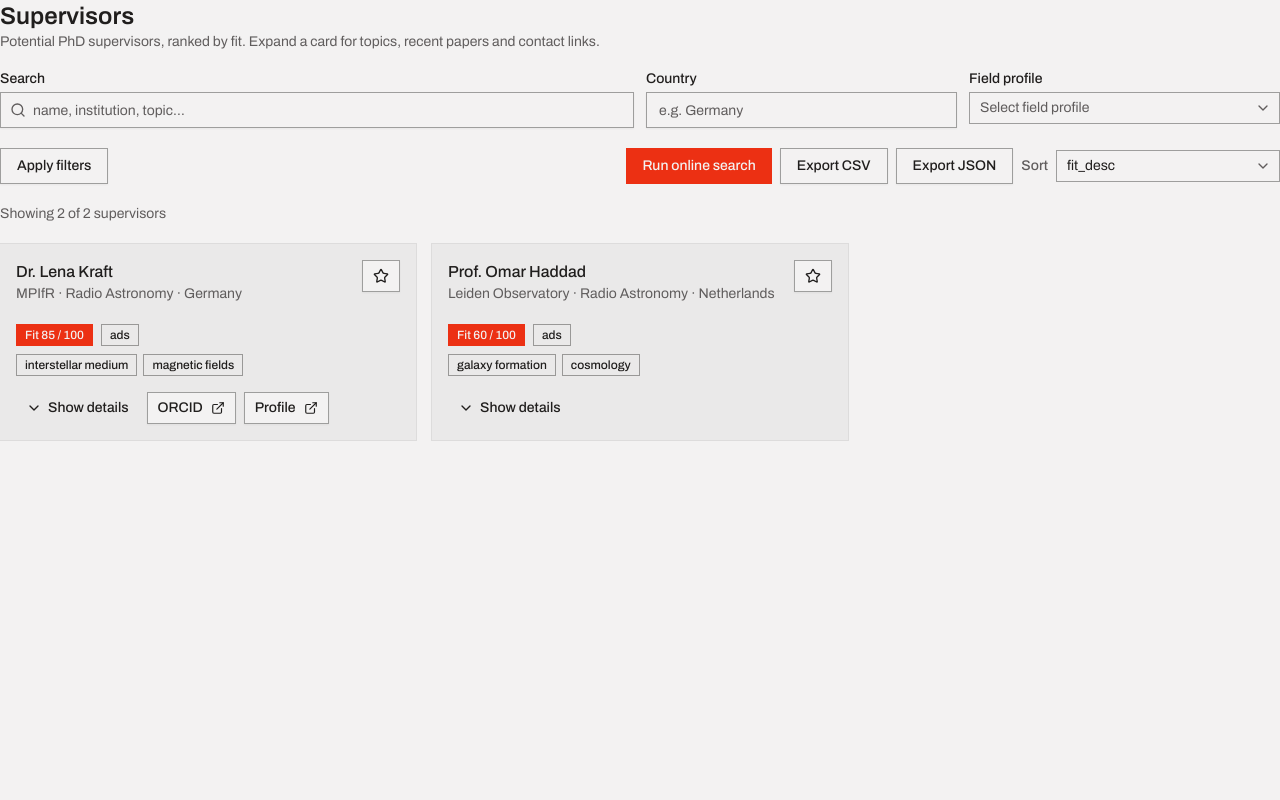
SupervisorsPage › runs an online search and shows completion
Expected: the text "Dr. Lena Kraft" is shown, [16,263,113,280]
Click the button "Run online search" at point(699, 166), box [626,148,772,184]
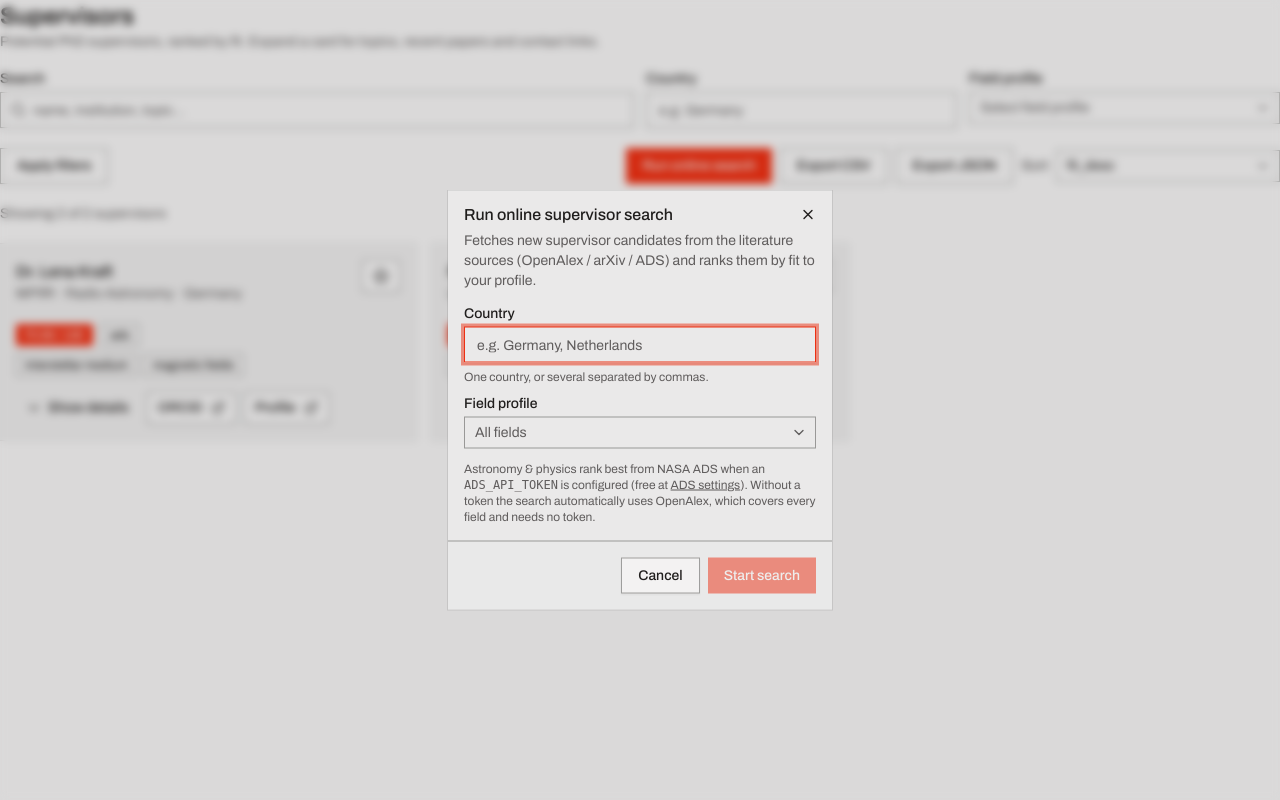
Type "Germany" into the field labelled "Country" at point(640, 344), box [464,326,816,362]
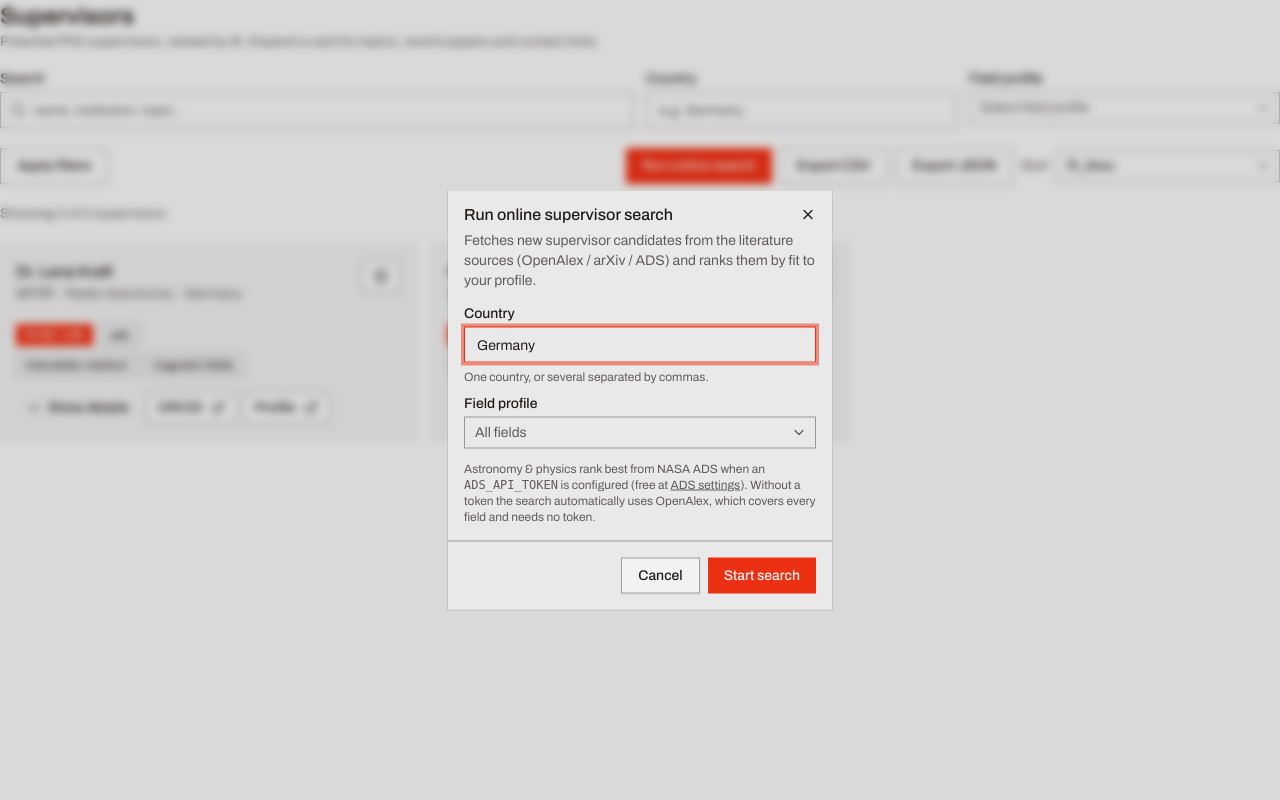
Click the button "Start search" at point(762, 576), box [708,558,816,594]
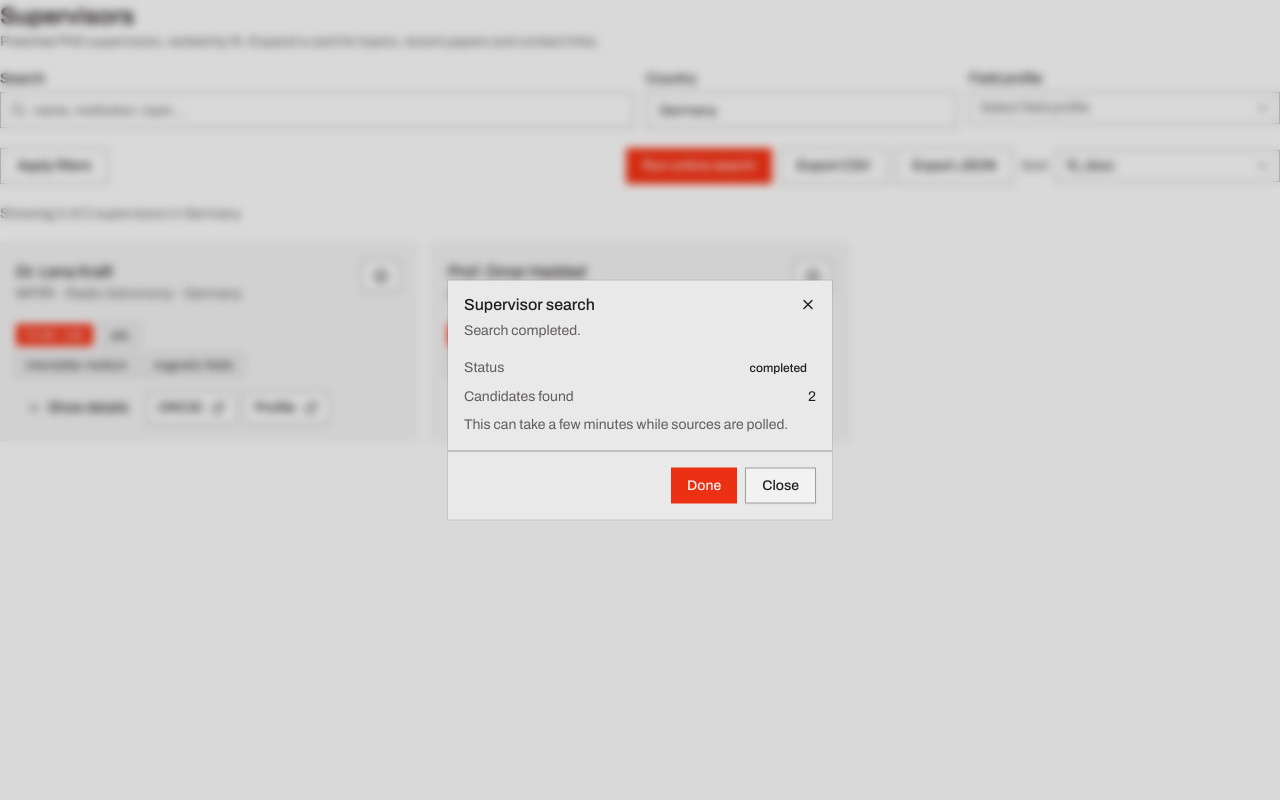
Expected: the text "Search completed." is shown, [464,322,581,338]
Expected: the text with test id "run-status" reads "completed", [750,360,807,374]
Expected: the text with test id "run-records" reads "2", [808,388,816,404]
Click the button "Done" at point(704, 486), box [671,468,737,504]
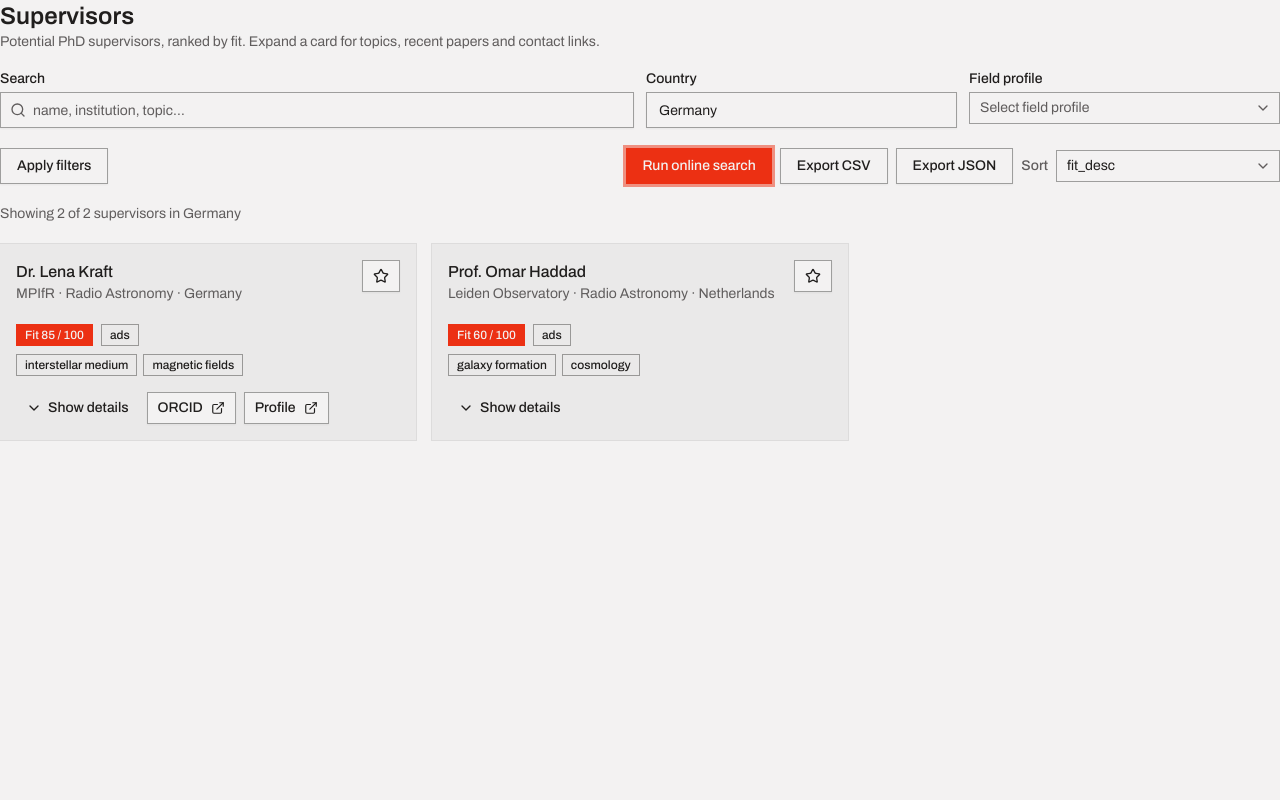
Expected: the text "Search completed." is gone
